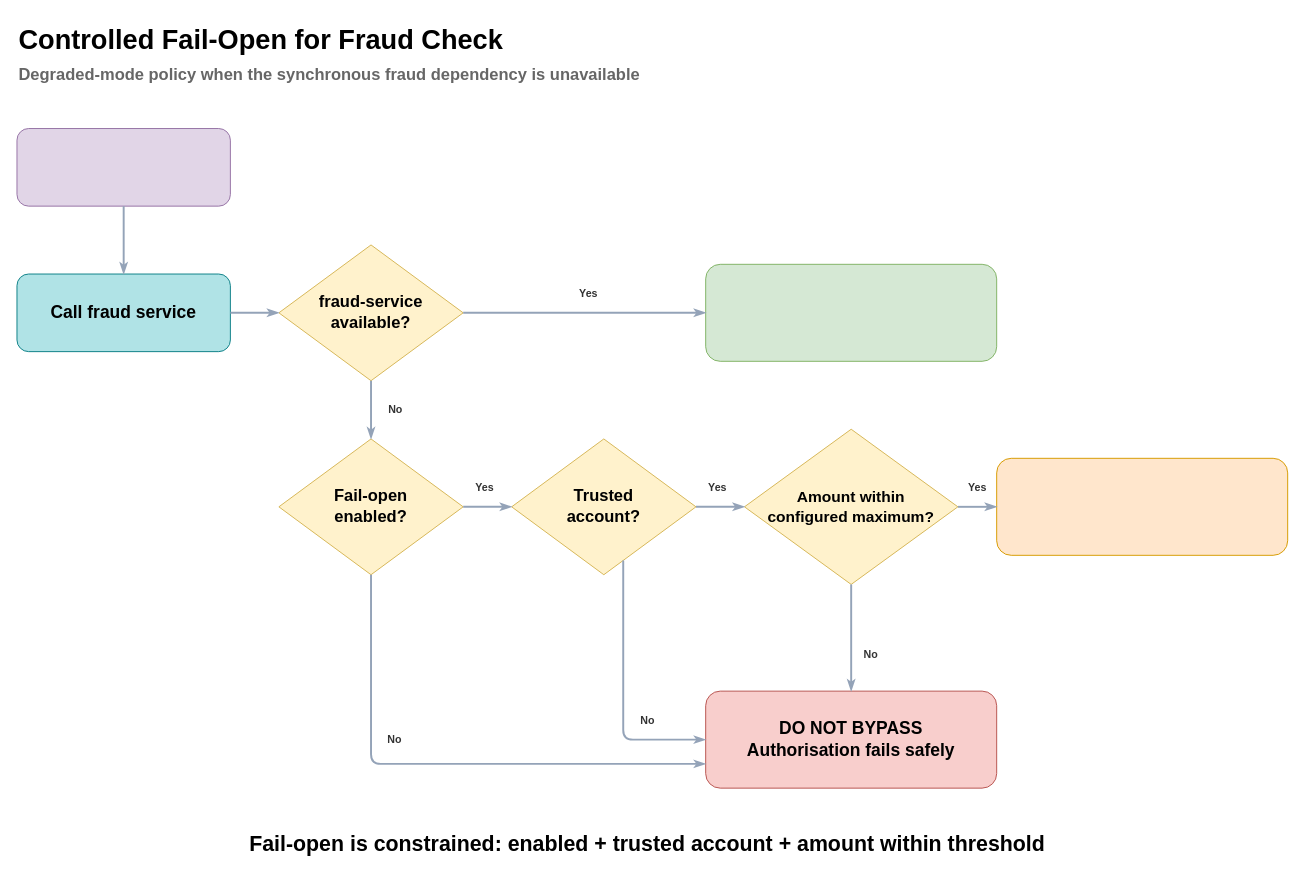
This 1305x887 diagram has some shape labels left out. The centre of each missing label's shape, as x and y in pixels:
"Authorisation request" belongs at point (123, 167).
"CONTROLLED BYPASS Continue authorisation without fraud decision" belongs at point (1142, 506).
"Use normal fraud decision" belongs at point (851, 312).
